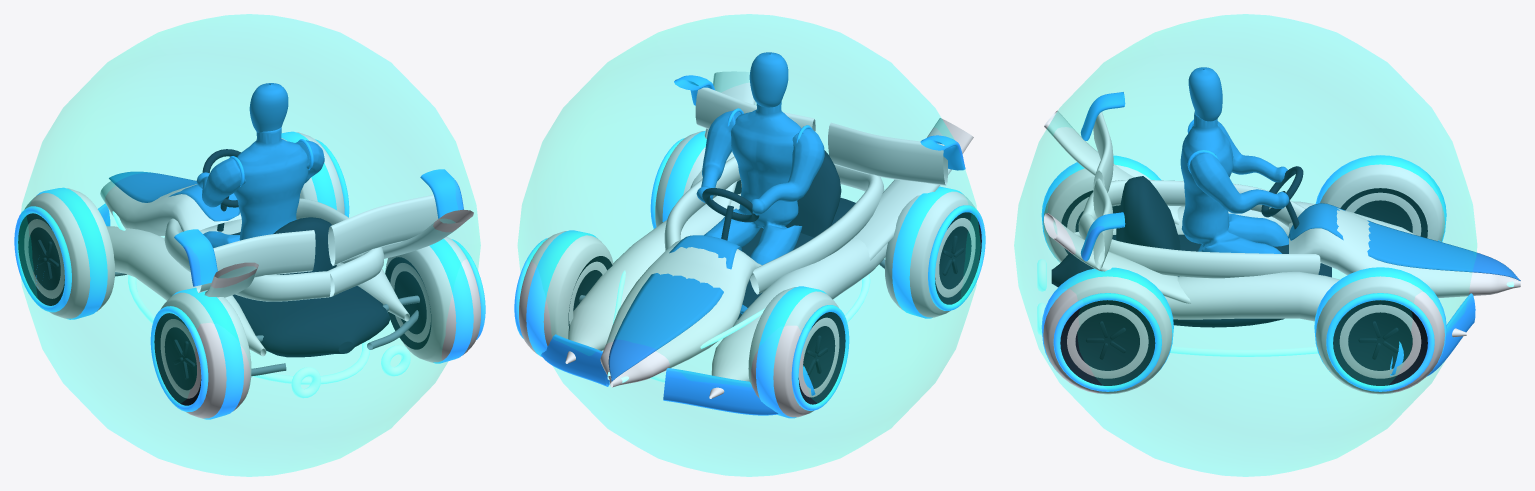
The model's file is vector.glb.
3 renders of one model, left to right at view 1: azimuth 30°, elevation 25°; view 2: azimuth 150°, elevation 25°; view 3: azimuth 270°, elevation 25°, orthographic.
Visible parts, largest first — view 1: vector:aegis-shield, vector:coachwork-batch.001, vector:coachwork-batch, vector:torso, vector:rounded-wheel-shell.003, vector:rounded-wheel-shell, vector:rounded-wheel-shell.002, vector:translucent-tire-band, vector:bonnet-enamel-inlay, vector:translucent-tire-band.002, vector:translucent-tire-band.003, vector:recessed-colored-hub (+16 smaller); view 2: vector:aegis-shield, vector:coachwork-batch.001, vector:torso, vector:bonnet-enamel-inlay, vector:rounded-wheel-shell, vector:rounded-wheel-shell.002, vector:rounded-wheel-shell.001, vector:coachwork-batch, vector:split-front-canard, vector:arm-l-mesh, vector:translucent-tire-band, vector:translucent-tire-band.002 (+16 smaller); view 3: vector:aegis-shield, vector:coachwork-batch.001, vector:torso, vector:rounded-wheel-shell.001, vector:rounded-wheel-shell.003, vector:coachwork-batch, vector:bonnet-enamel-inlay, vector:recessed-colored-hub.003, vector:recessed-colored-hub.001, vector:rounded-wheel-shell, vector:arm-r-mesh, vector:wheel-light-ring.001 (+14 smaller).
Boxes of the visible parts, x1=… form: vector:aegis-shield: x1=18, y1=14, x2=480, y2=476; vector:coachwork-batch.001: x1=100, y1=181, x2=473, y2=356; vector:coachwork-batch: x1=217, y1=196, x2=390, y2=357; vector:torso: x1=203, y1=127, x2=308, y2=247; vector:rounded-wheel-shell.003: x1=385, y1=236, x2=480, y2=362; vector:rounded-wheel-shell: x1=24, y1=188, x2=115, y2=318; vector:rounded-wheel-shell.002: x1=160, y1=292, x2=251, y2=418; vector:translucent-tire-band: x1=36, y1=187, x2=107, y2=319; vector:bonnet-enamel-inlay: x1=109, y1=171, x2=239, y2=221; vector:translucent-tire-band.002: x1=172, y1=287, x2=243, y2=419; vector:translucent-tire-band.003: x1=429, y1=238, x2=473, y2=363; vector:recessed-colored-hub: x1=18, y1=213, x2=64, y2=305; vector:aegis-shield: x1=518, y1=14, x2=980, y2=476; vector:coachwork-batch.001: x1=565, y1=71, x2=973, y2=398; vector:torso: x1=704, y1=101, x2=802, y2=314; vector:bonnet-enamel-inlay: x1=608, y1=235, x2=741, y2=381; vector:rounded-wheel-shell: x1=748, y1=287, x2=839, y2=417; vector:rounded-wheel-shell.002: x1=884, y1=191, x2=975, y2=317; vector:rounded-wheel-shell.001: x1=519, y1=231, x2=613, y2=354; vector:coachwork-batch: x1=721, y1=150, x2=855, y2=319; vector:split-front-canard: x1=663, y1=365, x2=815, y2=415; vector:arm-l-mesh: x1=751, y1=128, x2=824, y2=215; vector:translucent-tire-band: x1=756, y1=286, x2=827, y2=418; vector:translucent-tire-band.002: x1=892, y1=186, x2=963, y2=318; vector:aegis-shield: x1=1014, y1=14, x2=1476, y2=476; vector:coachwork-batch.001: x1=1044, y1=110, x2=1520, y2=337; vector:torso: x1=1180, y1=111, x2=1288, y2=253; vector:rounded-wheel-shell.001: x1=1316, y1=276, x2=1444, y2=394; vector:rounded-wheel-shell.003: x1=1043, y1=276, x2=1172, y2=394; vector:coachwork-batch: x1=1051, y1=176, x2=1331, y2=327; vector:bonnet-enamel-inlay: x1=1288, y1=203, x2=1520, y2=280; vector:recessed-colored-hub.003: x1=1060, y1=300, x2=1155, y2=385; vector:recessed-colored-hub.001: x1=1333, y1=300, x2=1427, y2=385; vector:rounded-wheel-shell: x1=1320, y1=164, x2=1444, y2=241; vector:arm-r-mesh: x1=1189, y1=153, x2=1289, y2=213; vector:wheel-light-ring.001: x1=1326, y1=293, x2=1434, y2=391.
Size of the model in its own units: 4.3 by 4.3 by 4.7.
